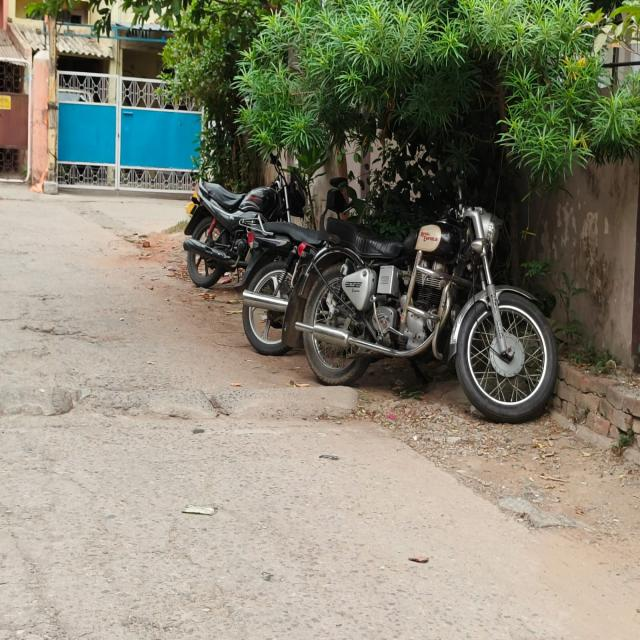bike: (298, 194, 572, 418), (179, 150, 304, 295), (232, 214, 322, 356)
